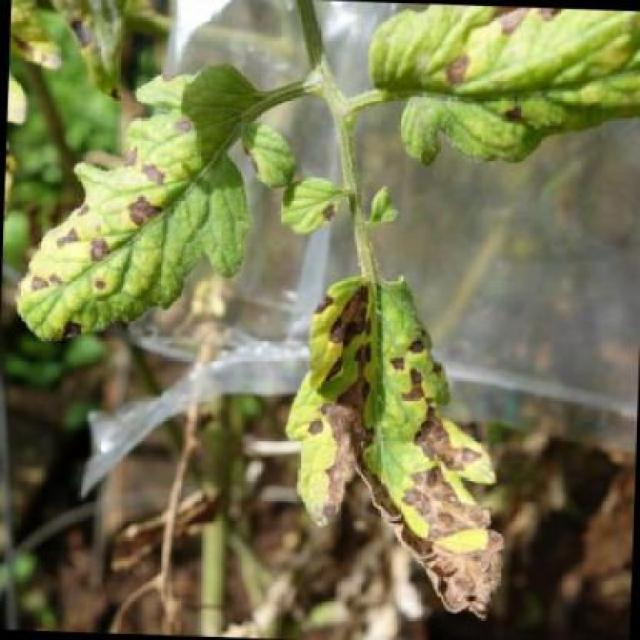Septoria leaf spot: (281, 260, 528, 640), (7, 49, 296, 357), (352, 1, 639, 184)
